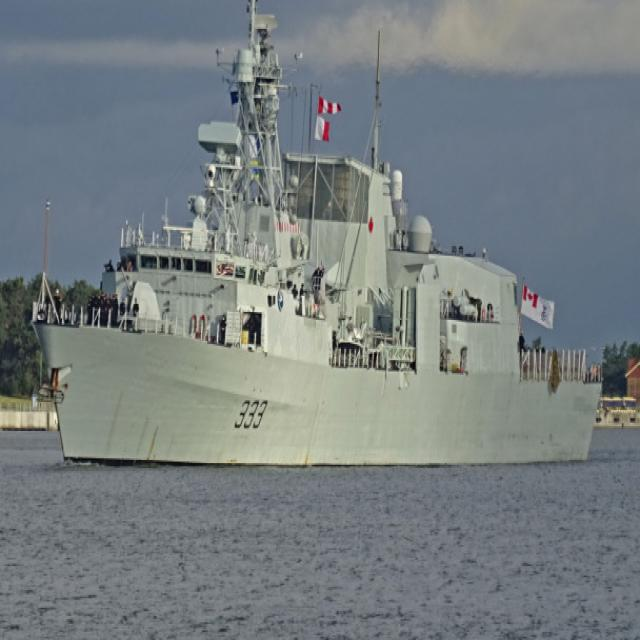Fragata: (27, 1, 603, 480)
